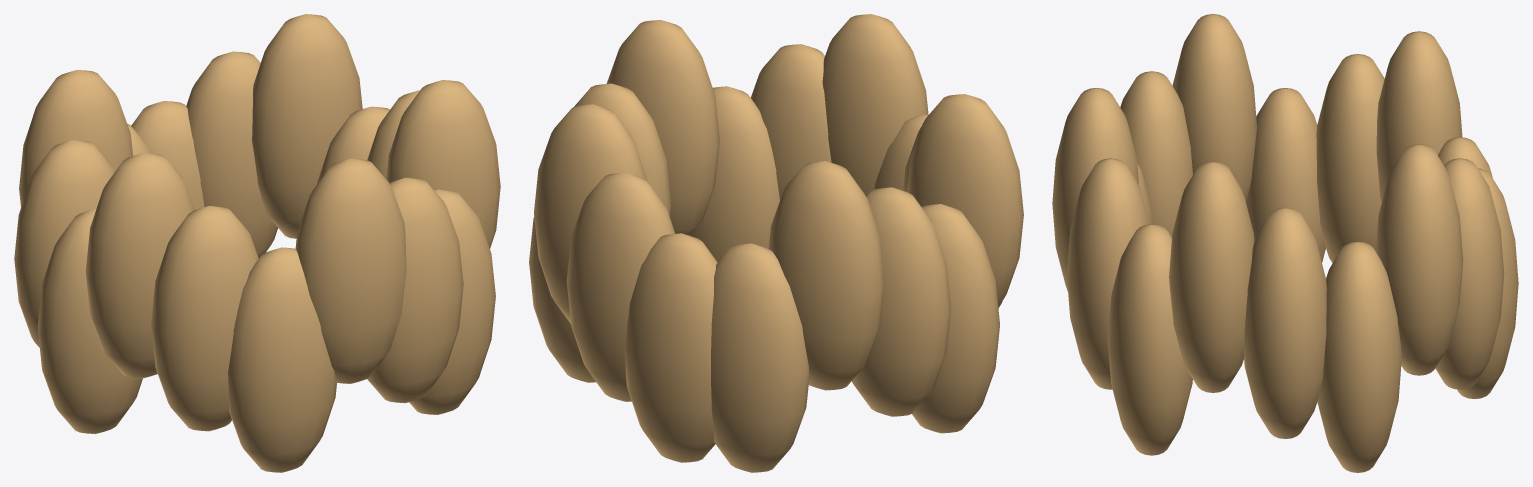
Rendered from Gaara_Skill2.fbx.
3 views of the same model, side by side, from view 1: azimuth 30°, elevation 25°; view 2: azimuth 150°, elevation 25°; view 3: azimuth 270°, elevation 25° (orthographic).
Visible parts, largest first — view 1: SandCrest.008, SandCrest.009, SandCrest.010, SandCrest.002, SandCrest.011, SandCrest.007, SandCrest.012, SandCrest.005, SandCrest.001, SandCrest.013, SandCrest.006, SandCrest.014 (+3 smaller); view 2: SandCrest.014, SandCrest.015, SandCrest, SandCrest.013, SandCrest.001, SandCrest.011, SandCrest.005, SandCrest.008, SandCrest.012, SandCrest.002, SandCrest.006, SandCrest.007 (+3 smaller); view 3: SandCrest.004, SandCrest.005, SandCrest.003, SandCrest.002, SandCrest.006, SandCrest.013, SandCrest.007, SandCrest.011, SandCrest.001, SandCrest.014, SandCrest.012, SandCrest.010 (+3 smaller).
Boxes of the visible parts, x1=… form: SandCrest.008: x1=295, y1=158, x2=406, y2=383; SandCrest.009: x1=228, y1=247, x2=336, y2=472; SandCrest.010: x1=151, y1=206, x2=258, y2=431; SandCrest.002: x1=252, y1=14, x2=362, y2=238; SandCrest.011: x1=85, y1=153, x2=194, y2=378; SandCrest.007: x1=367, y1=177, x2=463, y2=403; SandCrest.012: x1=37, y1=208, x2=142, y2=434; SandCrest.005: x1=386, y1=80, x2=500, y2=248; SandCrest.001: x1=186, y1=51, x2=277, y2=258; SandCrest.013: x1=14, y1=140, x2=114, y2=347; SandCrest.006: x1=409, y1=189, x2=495, y2=415; SandCrest.014: x1=19, y1=69, x2=132, y2=207; SandCrest.014: x1=768, y1=161, x2=884, y2=390; SandCrest.015: x1=711, y1=243, x2=809, y2=472; SandCrest: x1=624, y1=233, x2=717, y2=462; SandCrest.013: x1=851, y1=187, x2=951, y2=416; SandCrest.001: x1=566, y1=172, x2=675, y2=401; SandCrest.011: x1=907, y1=94, x2=1023, y2=305; SandCrest.005: x1=606, y1=20, x2=719, y2=235; SandCrest.008: x1=822, y1=14, x2=928, y2=196; SandCrest.012: x1=912, y1=204, x2=999, y2=433; SandCrest.002: x1=534, y1=104, x2=647, y2=323; SandCrest.006: x1=690, y1=86, x2=779, y2=261; SandCrest.007: x1=751, y1=44, x2=831, y2=200; SandCrest.004: x1=1244, y1=207, x2=1326, y2=438; SandCrest.005: x1=1169, y1=161, x2=1254, y2=392; SandCrest.003: x1=1317, y1=241, x2=1401, y2=472; SandCrest.002: x1=1375, y1=144, x2=1463, y2=375; SandCrest.006: x1=1107, y1=224, x2=1192, y2=455; SandCrest.013: x1=1316, y1=54, x2=1384, y2=262; SandCrest.007: x1=1066, y1=158, x2=1149, y2=389; SandCrest.011: x1=1172, y1=14, x2=1256, y2=201; SandCrest.001: x1=1435, y1=158, x2=1504, y2=389; SandCrest.014: x1=1376, y1=31, x2=1462, y2=202; SandCrest.012: x1=1246, y1=88, x2=1325, y2=262; SandCrest.010: x1=1120, y1=71, x2=1192, y2=237.
Bounding box in the file's own units: 400 × 270 × 370.
